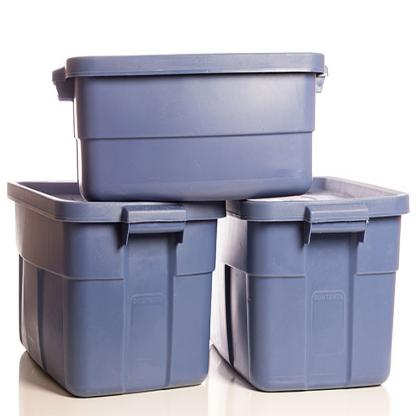plastic_box: (37, 16, 347, 219)
